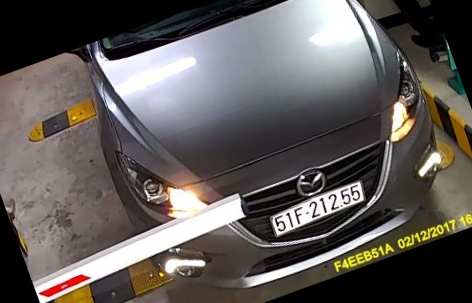plate: (269, 181, 367, 242)
